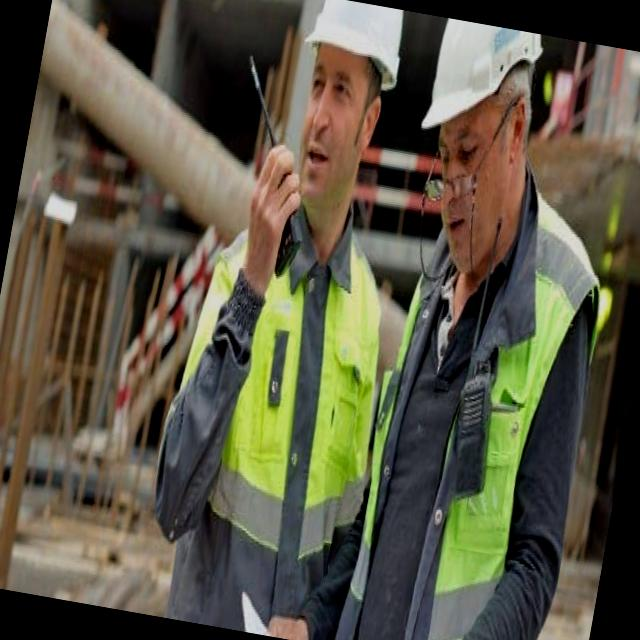helmet: (409, 15, 552, 162), (294, 0, 425, 85)
no-goggles: (423, 128, 501, 206), (300, 54, 373, 122)
vest: (336, 159, 627, 640), (150, 147, 422, 559)
